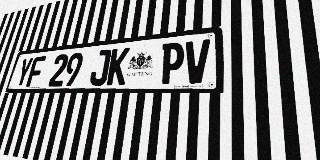2: (48, 53, 70, 86)
9: (62, 52, 84, 86)
F: (26, 56, 46, 87)
J: (89, 49, 112, 86)
K: (106, 47, 130, 85)
P: (159, 42, 185, 84)
V: (183, 39, 210, 84)
Y: (14, 57, 34, 87)
